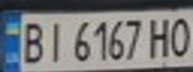1: (90, 17, 109, 62)
6: (69, 17, 93, 63), (106, 16, 127, 61)
7: (124, 16, 148, 60)
B: (15, 18, 48, 65)
H: (145, 14, 175, 58)
I: (42, 17, 69, 64)
O: (166, 14, 193, 58)
